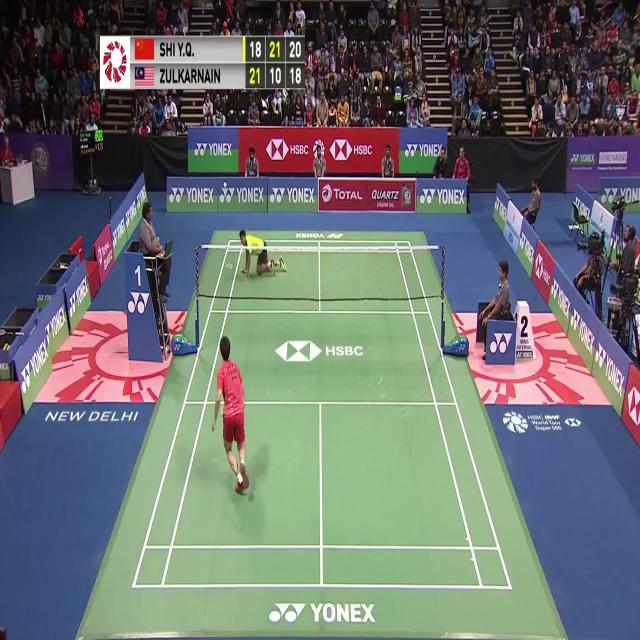Shuttlecock: (221, 179, 228, 191)
